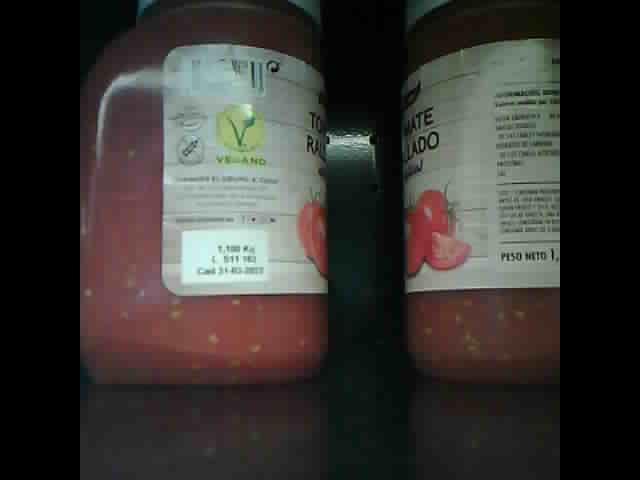tomate: (81, 4, 327, 387), (402, 6, 558, 382)
